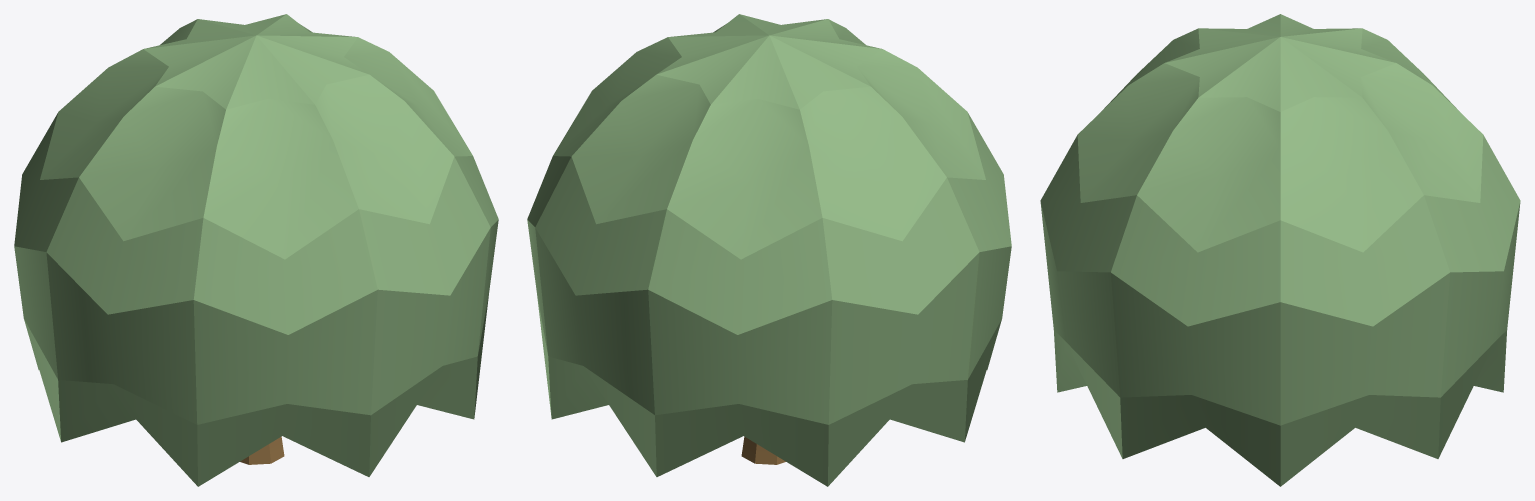
Rendered from Shrub.fbx.
The picture shows the model from 3 angles, left to right: view 1: azimuth 30°, elevation 25°; view 2: azimuth 150°, elevation 25°; view 3: azimuth 270°, elevation 25°; orthographic projection.
Visible parts, largest first — view 1: Foliage, Trunk; view 2: Foliage, Trunk; view 3: Foliage.
Boxes of the visible parts, x1=… form: Foliage: x1=14, y1=14, x2=498, y2=486; Trunk: x1=240, y1=436, x2=284, y2=464; Foliage: x1=527, y1=14, x2=1011, y2=486; Trunk: x1=741, y1=436, x2=785, y2=464; Foliage: x1=1040, y1=14, x2=1520, y2=486.
Bounding box in the file's own units: 26.74 × 25.4 × 26.74.
